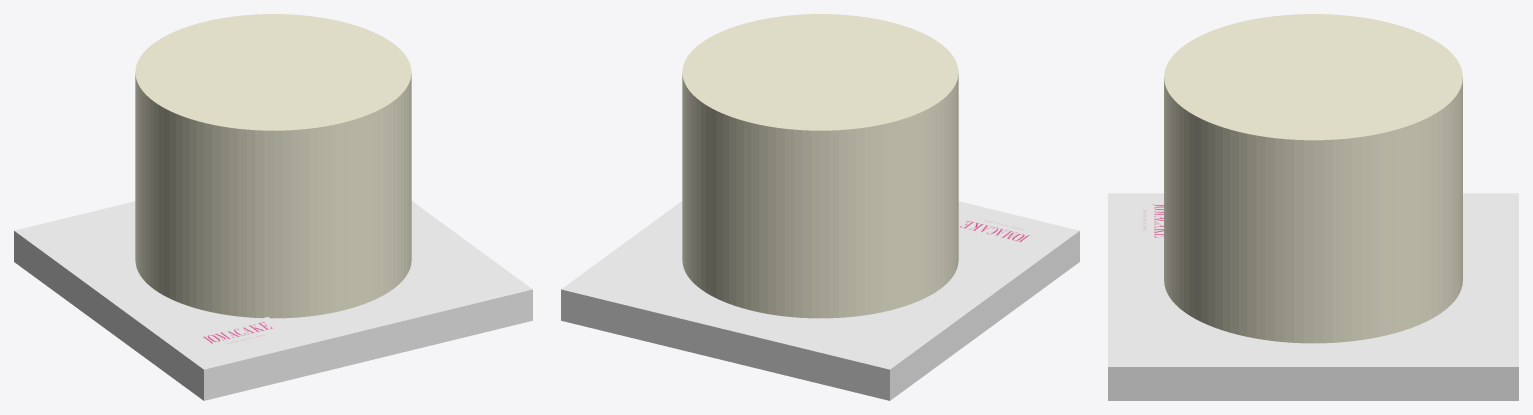
The model's file is cake_6in_layers3_v41.glb.
3 renders of one model, left to right at view 1: azimuth 30°, elevation 25°; view 2: azimuth 150°, elevation 25°; view 3: azimuth 270°, elevation 25°, orthographic. The views are drawn at different scales.
Visible parts, largest first — view 1: Cake, Board, Logo; view 2: Cake, Board, Logo; view 3: Cake, Board, Logo.
Boxes of the visible parts, x1,y1,x2,y2 form: Cake: (135,14,411,318); Board: (14,201,532,400); Logo: (189,317,290,352); Cake: (682,14,958,318); Board: (561,201,1079,400); Logo: (958,211,1047,247); Cake: (1164,14,1462,343); Board: (1108,193,1518,400); Logo: (1132,200,1163,241).
Size of the model in its own units: 0.22 by 0.14 by 0.22.
